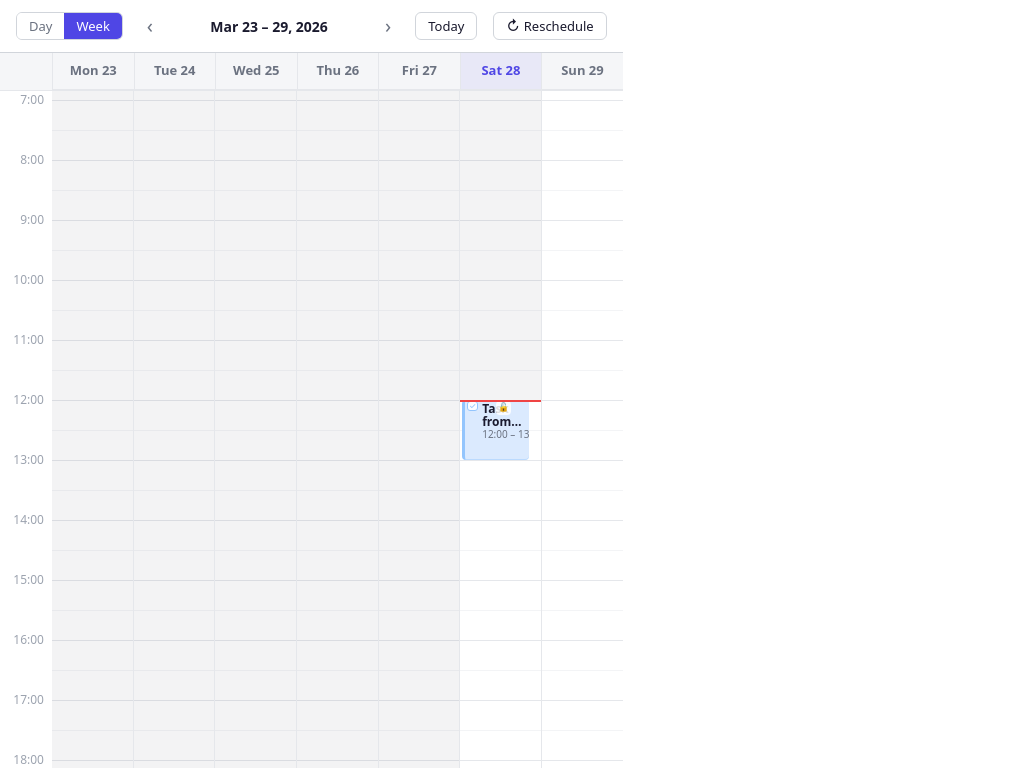
it: CalendarView — chunk context menu › cancel task dialog: cancels on confirm
(page scrolled)
Right-click the button with class "chunk-block" at (496, 430), box [462,400,529,460]
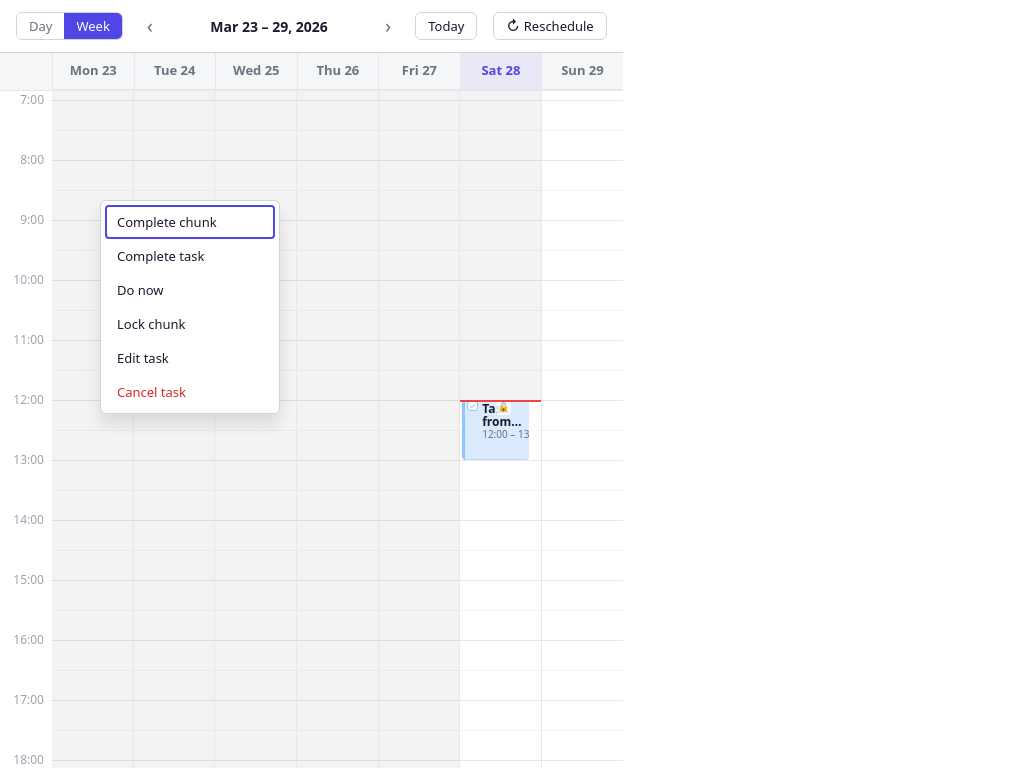
Expected: the menu is shown, [100,200,280,414]
Click the menu item "Cancel task". click: (190, 392)
box: [105,375,275,409]
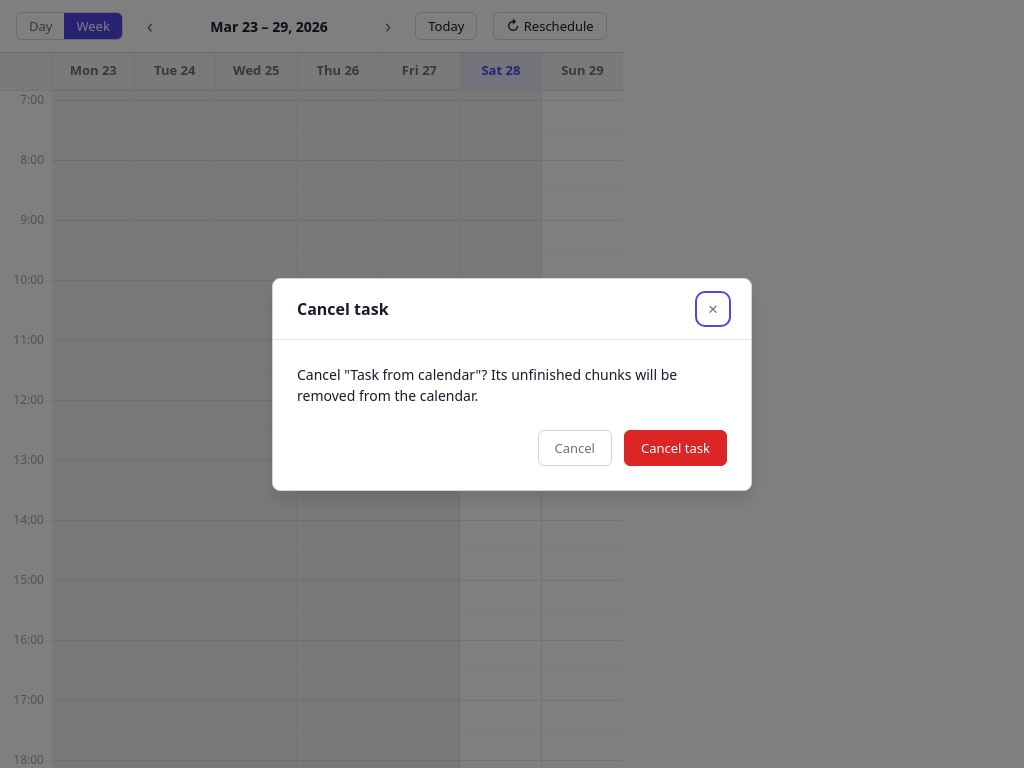
Click the button with class "btn-danger". click: (676, 448)
box: [624,430,727,466]
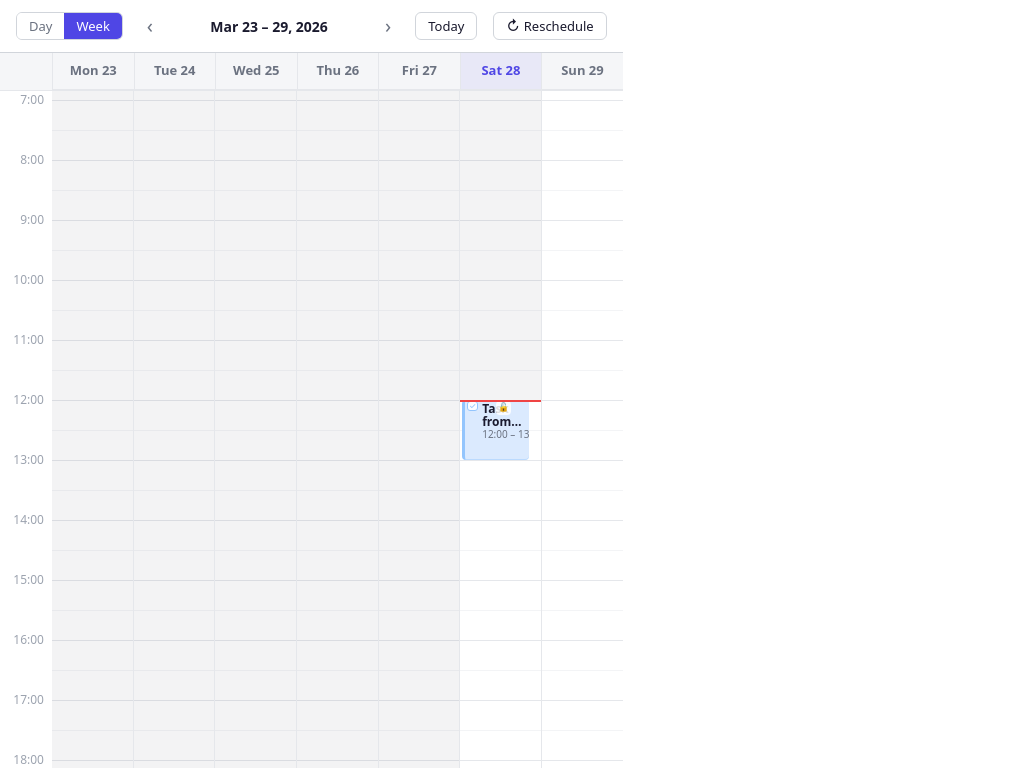
Expected: the button with class "btn-danger" is gone
